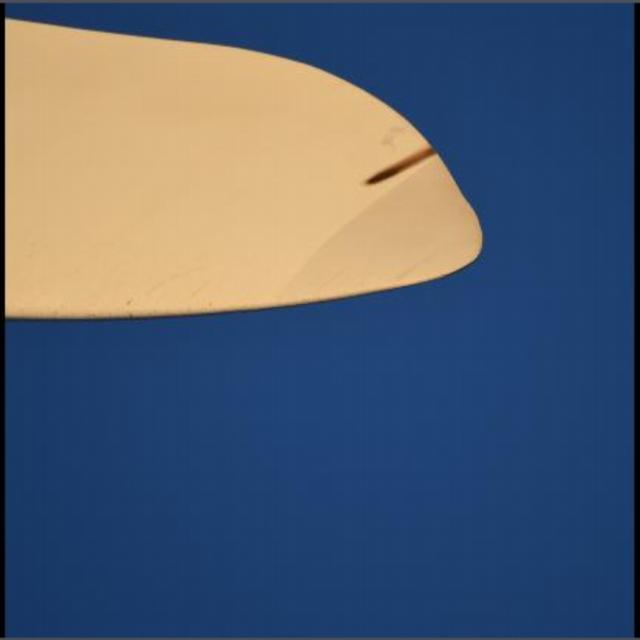Burn Mark: (367, 144, 438, 186)
